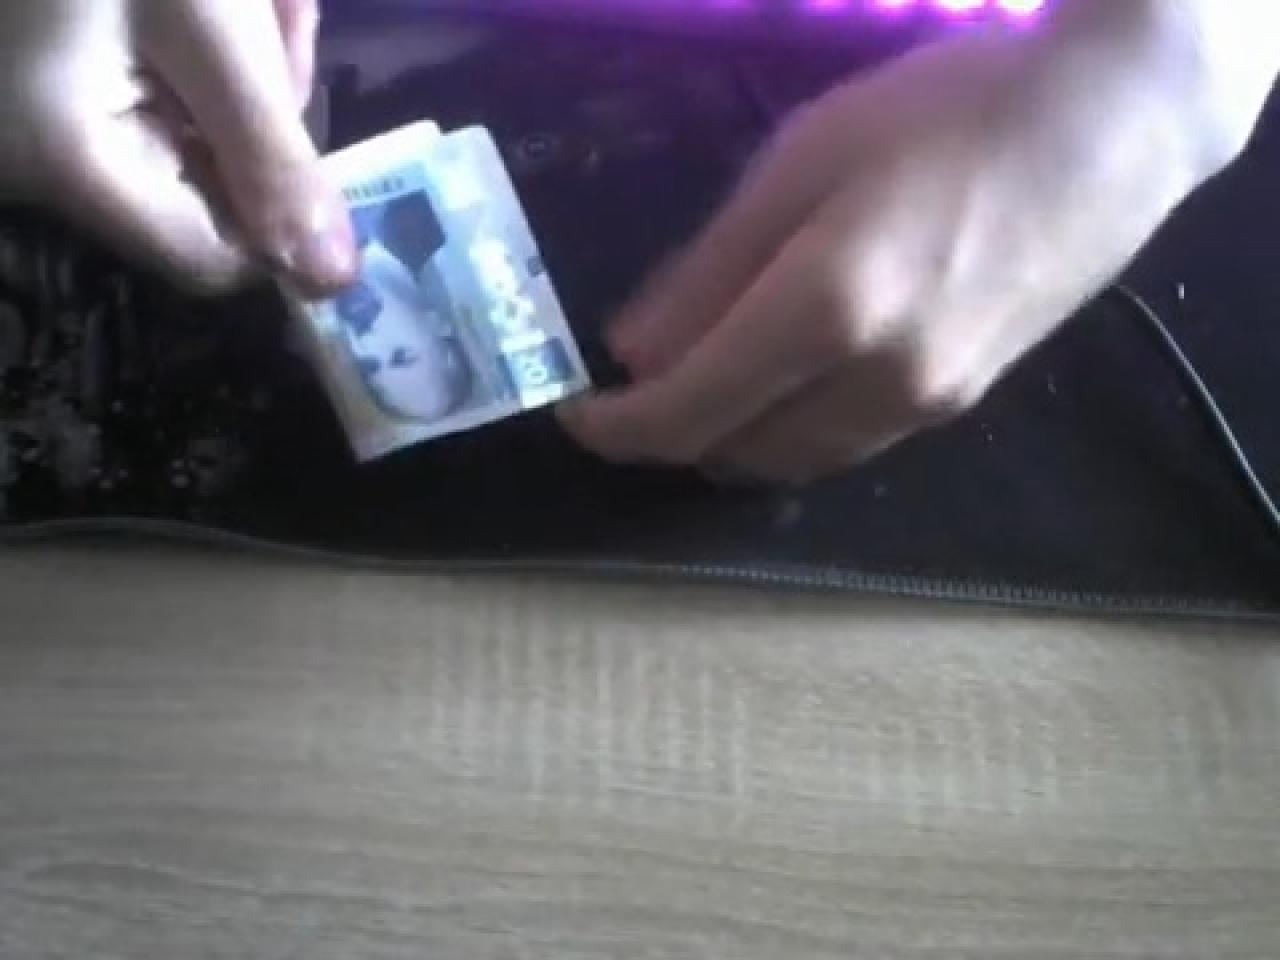20leva: (272, 115, 598, 464)
